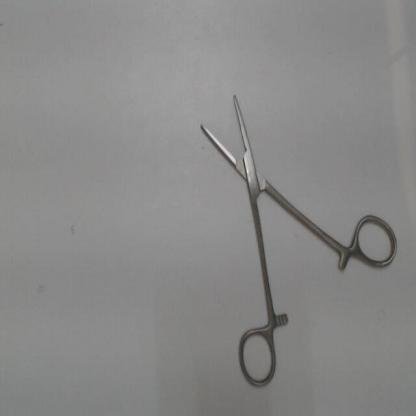Mayo Needle Holder: (191, 68, 402, 390)
